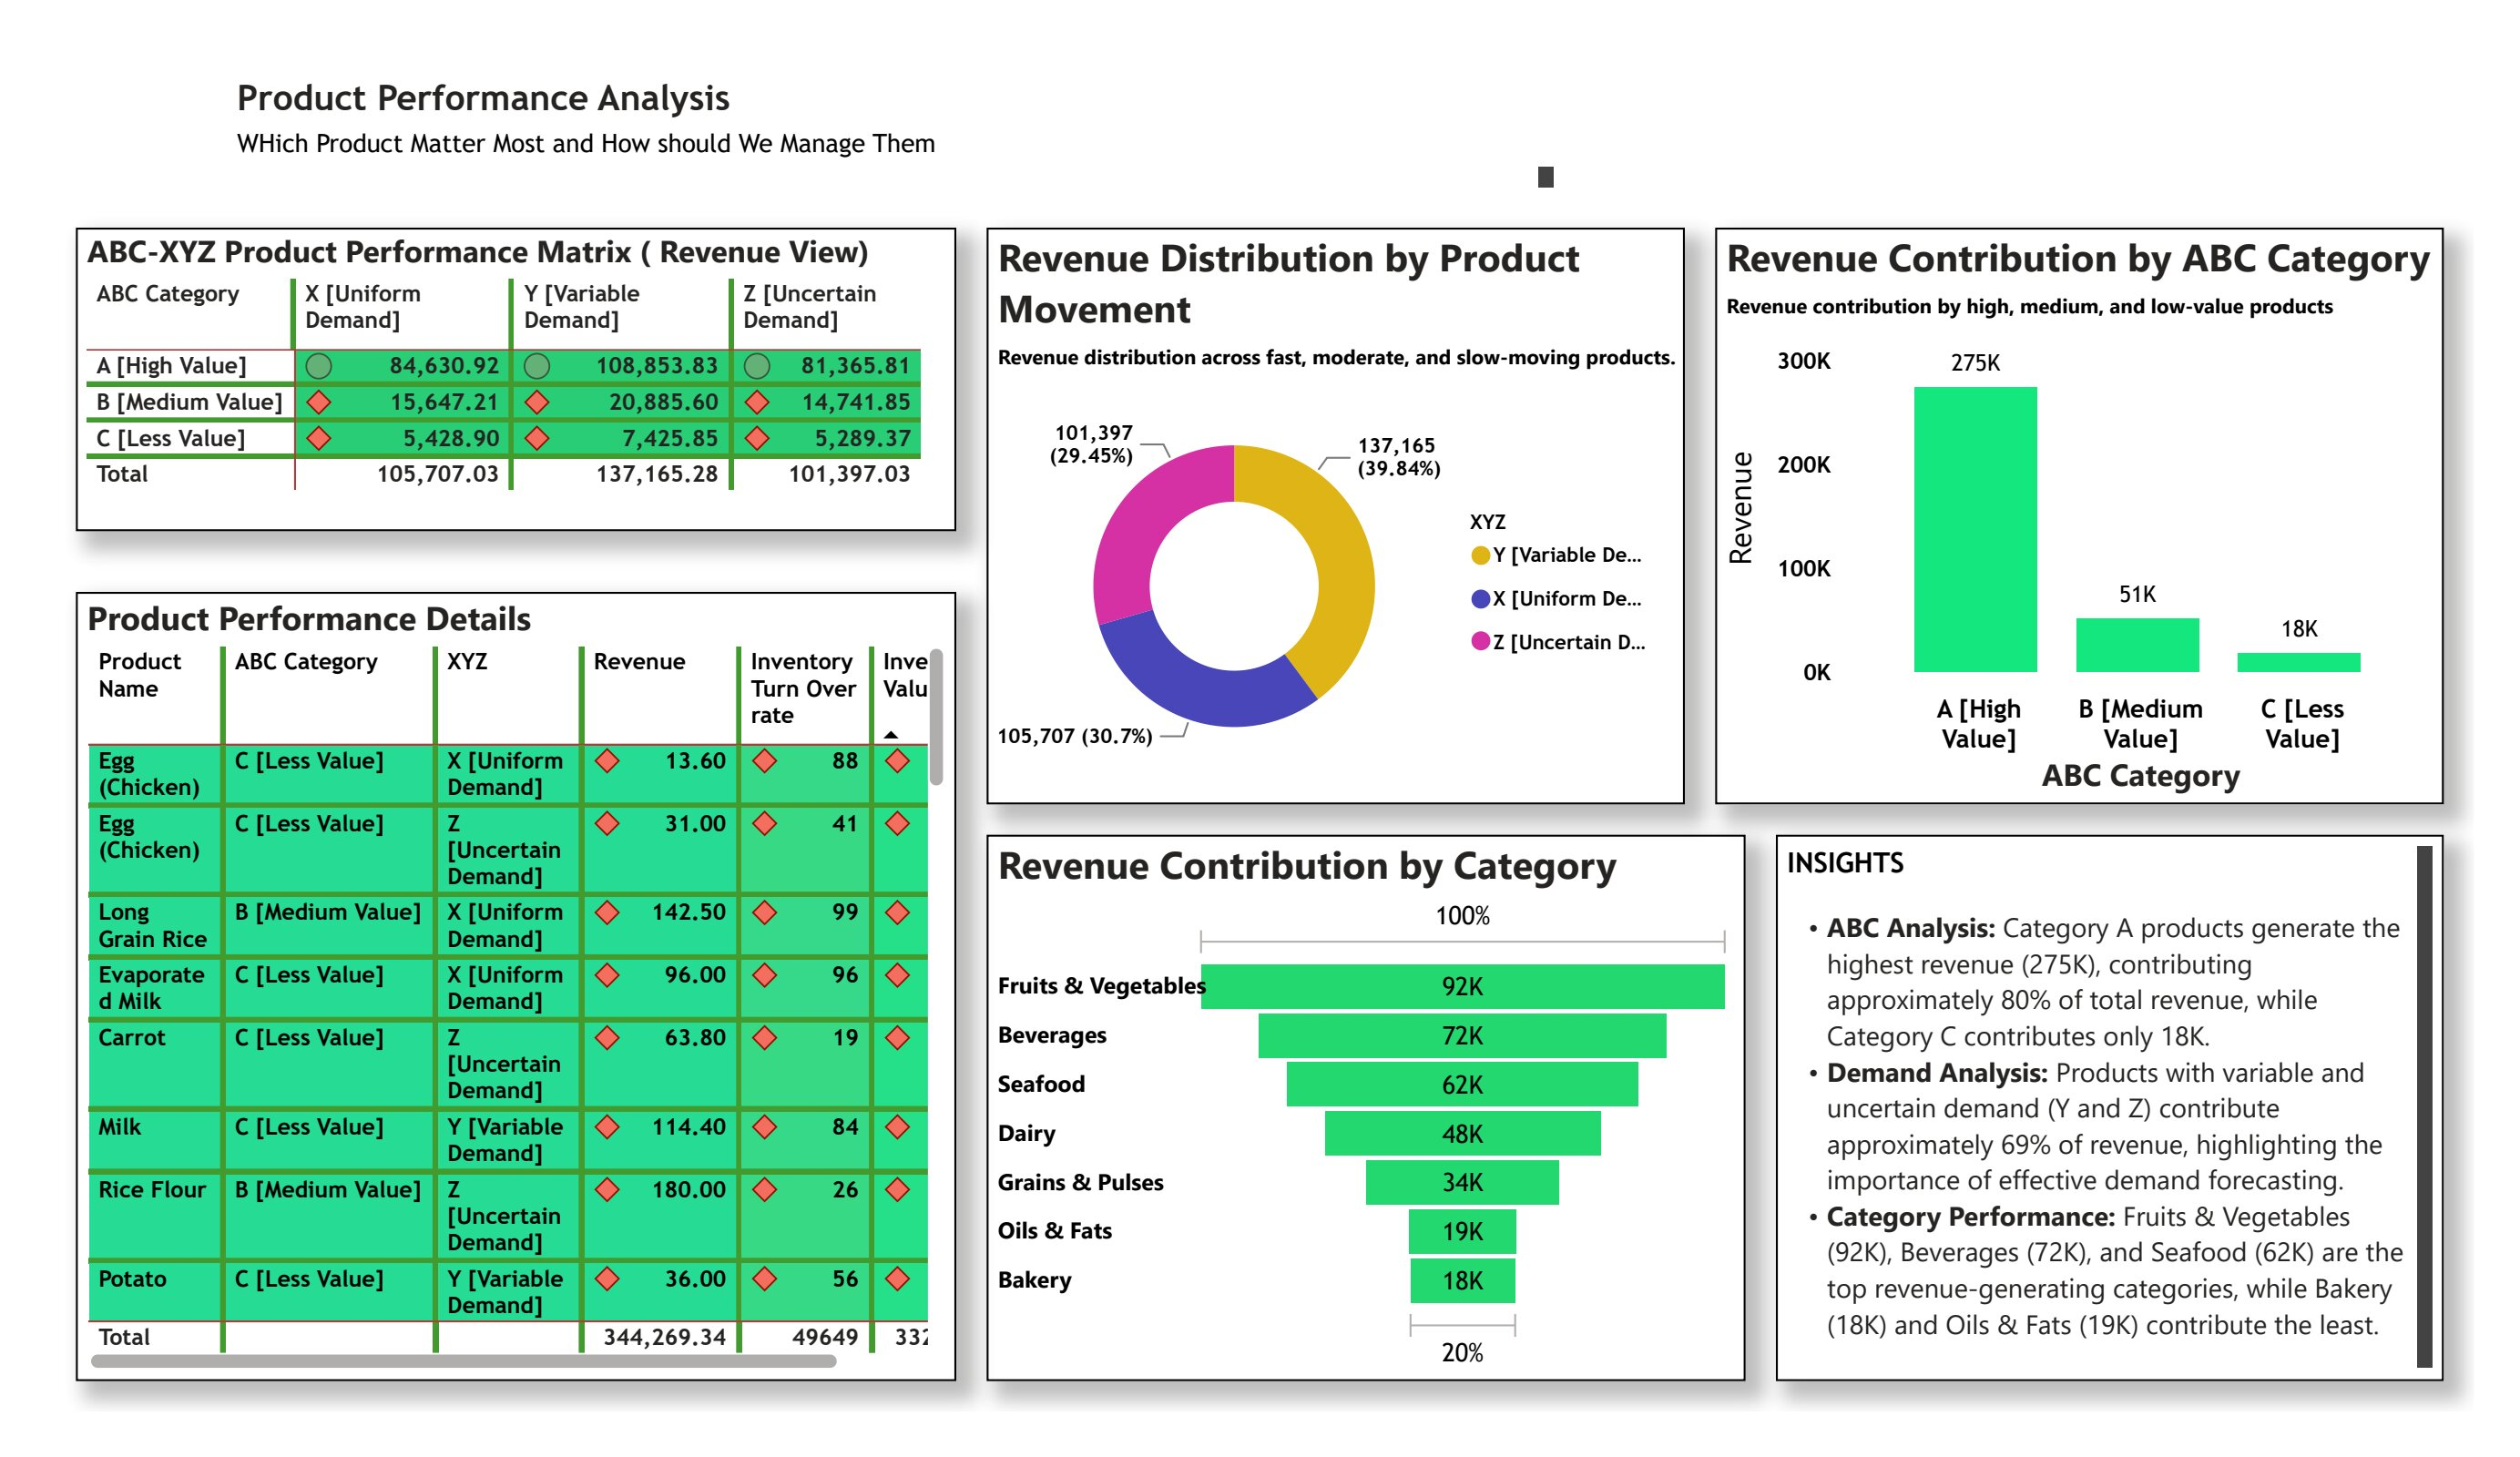

The dashboard page shown, as its layout file describes it:
{"tool":"powerbi","page":{"name":"Product analysis","canvas":[1280,720],"ordinal":1},"visuals":[{"type":"pivotTable","title":"ABC-XYZ Product Performance Matrix ( Revenue View)","fields":{"Columns":["Grocery_Inventory_Data.XYZ"],"Rows":["ABC_Product_Classification.ABC Category"],"Values":["Sum(Grocery_Inventory_Data.Revenue)"]},"box":[16,96,464,160],"z":0},{"type":"tableEx","title":"Product Performance Details","fields":{"Values":["Grocery_Inventory_Data.Product_Name","ABC_Product_Classification.ABC Category","Grocery_Inventory_Data.XYZ","Kay Calculations.Total Revenue","Sum(Grocery_Inventory_Data.Inventory_Turnover_Rate)","Sum(Grocery_Inventory_Data.Inventory_Value)"]},"box":[16,288,464,416],"z":1000},{"type":"clusteredColumnChart","title":"Revenue Contribution by ABC Category","fields":{"Category":["ABC_Product_Classification.ABC Category"],"Y":["Sum(Grocery_Inventory_Data.Revenue)"]},"box":[880,96,384,304],"z":2000},{"type":"donutChart","title":"Revenue Distribution by Product Movement","fields":{"Category":["Grocery_Inventory_Data.XYZ"],"Y":["Sum(Grocery_Inventory_Data.Revenue)"]},"box":[496,96,368,304],"z":3000},{"type":"funnel","title":"Revenue Contribution by Category","fields":{"Category":["Grocery_Inventory_Data.Category"],"Y":["Sum(Grocery_Inventory_Data.Revenue)"]},"box":[496,416,400,288],"z":4000},{"type":"textbox","box":[912,416,352,288],"z":5000},{"type":"textbox","title":"Product Performance Analysis","box":[96,16,704,64],"z":6000}]}

Visuals, with their boxes in screenshot pixels (x1, y1, x2, y2):
"ABC-XYZ Product Performance Matrix ( Revenue View)" pivotTable: BBox(83, 239, 952, 538)
"Product Performance Details" tableEx: BBox(83, 598, 952, 1377)
"Revenue Contribution by ABC Category" clusteredColumnChart: BBox(1700, 239, 2420, 808)
"Revenue Distribution by Product Movement" donutChart: BBox(982, 239, 1670, 808)
"Revenue Contribution by Category" funnel: BBox(982, 838, 1730, 1377)
textbox: BBox(1760, 838, 2420, 1377)
"Product Performance Analysis" textbox: BBox(232, 89, 1551, 209)
